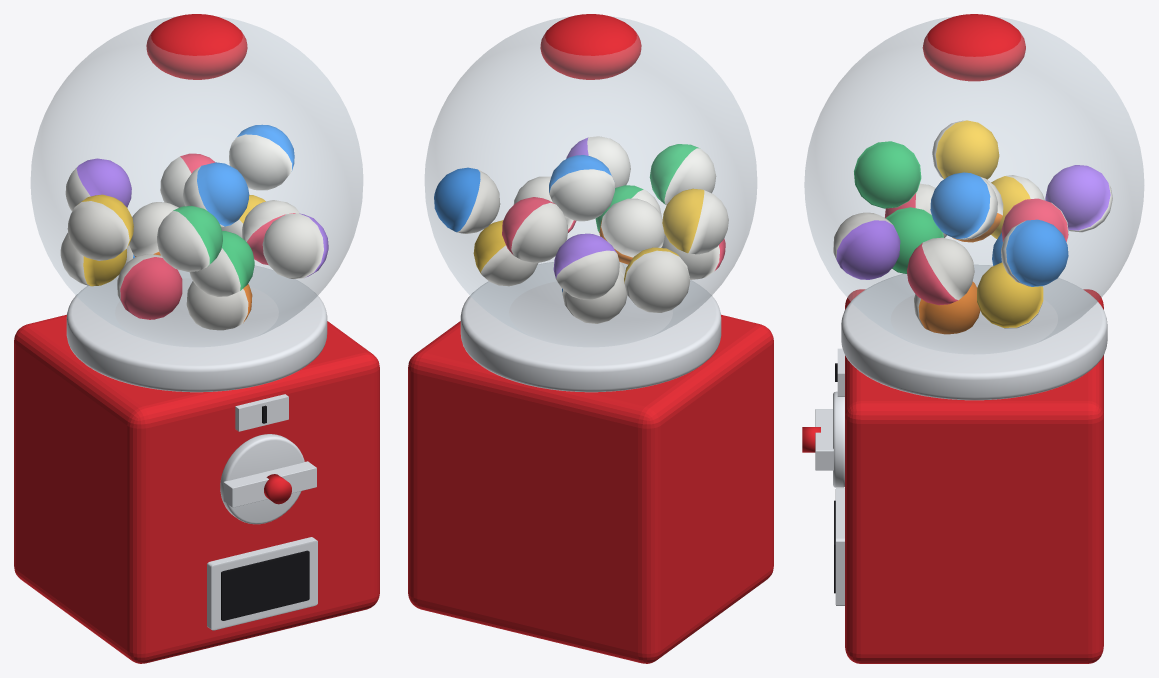
File: machine.glb
3 views of the same model, side by side, from view 1: azimuth 30°, elevation 25°; view 2: azimuth 150°, elevation 25°; view 3: azimuth 270°, elevation 25° (orthographic). The views are drawn at different scales.
Visible parts, largest first — view 1: globe, machine_body, globe_capsules, Cylinder, Sphere.005, Cube.004, Cylinder.001, Cube.003, Cube, Cube.001, Cylinder.002; view 2: machine_body, globe, globe_capsules, Cylinder, Sphere.005; view 3: globe, machine_body, globe_capsules, Cylinder, Sphere.005, Cube.003, Cube, Cylinder.001.
Part boxes in pixels (x1,y1,x2,y2): globe: [31, 16, 362, 346]; machine_body: [14, 314, 379, 663]; globe_capsules: [60, 124, 328, 330]; Cylinder: [66, 265, 327, 392]; Sphere.005: [146, 14, 247, 79]; Cube.004: [221, 550, 309, 620]; Cylinder.001: [220, 434, 304, 524]; Cube.003: [207, 537, 317, 630]; Cube: [223, 461, 316, 507]; Cube.001: [235, 394, 288, 431]; Cylinder.002: [264, 474, 291, 504]; machine_body: [408, 314, 773, 663]; globe: [425, 16, 756, 346]; globe_capsules: [434, 136, 728, 323]; Cylinder: [460, 262, 721, 392]; Sphere.005: [540, 14, 641, 79]; globe: [804, 17, 1144, 353]; machine_body: [845, 289, 1103, 663]; globe_capsules: [833, 120, 1112, 334]; Cylinder: [841, 264, 1107, 400]; Sphere.005: [922, 14, 1025, 81]; Cube.003: [835, 488, 844, 605]; Cube: [815, 409, 833, 470]; Cylinder.001: [833, 391, 844, 487].
Bounding box in the file's own units: 0.92 × 1.75 × 0.925.
